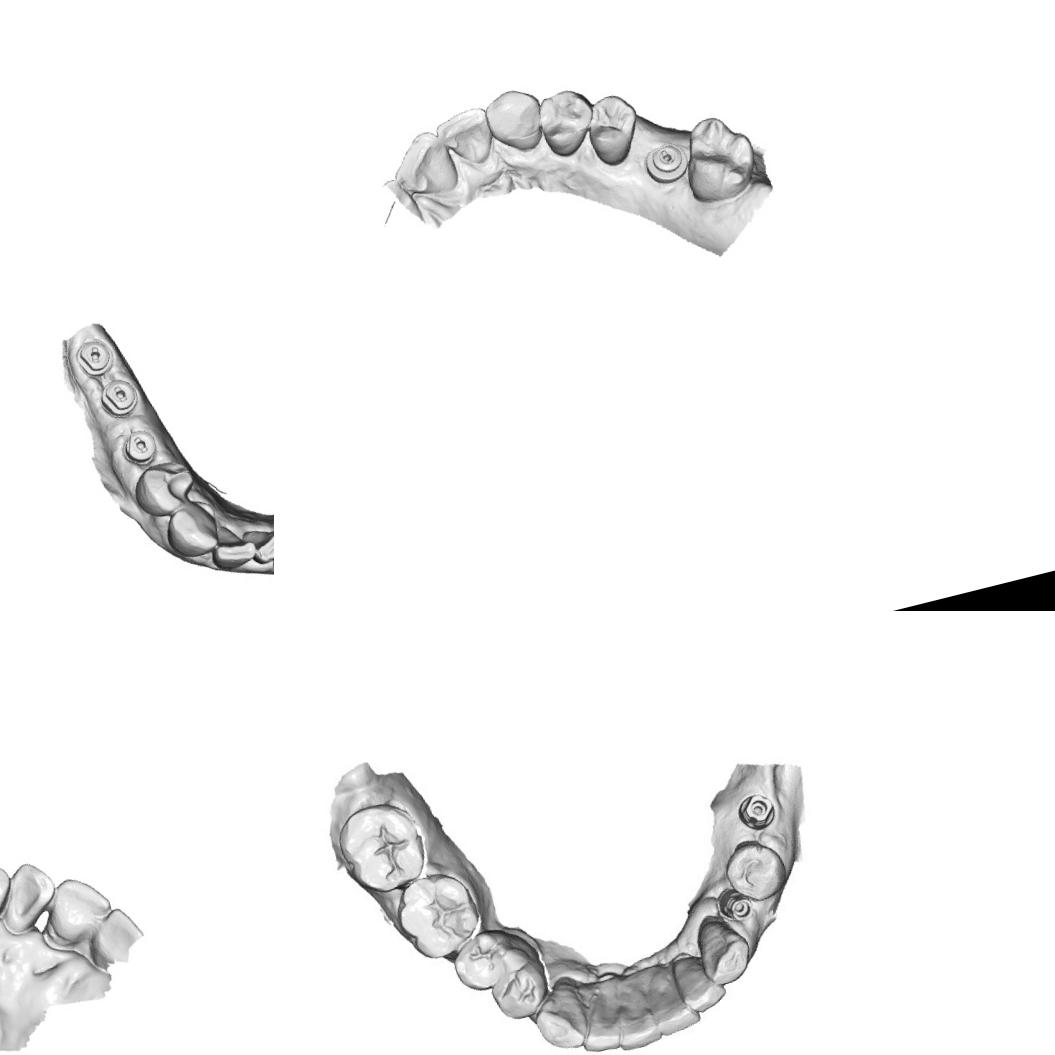canine: (526, 970, 600, 1054), (478, 80, 553, 160), (690, 909, 760, 990), (157, 493, 224, 564), (0, 855, 20, 936)
implant: (732, 785, 787, 842), (710, 878, 760, 932)
implant_minus: (638, 136, 693, 186), (94, 372, 145, 422), (113, 424, 162, 472), (70, 334, 118, 382)
incisor: (382, 123, 463, 205), (38, 867, 120, 945), (563, 968, 631, 1055), (640, 957, 700, 1043), (0, 856, 62, 937), (430, 102, 500, 173), (670, 942, 732, 1020), (79, 902, 150, 970), (608, 974, 665, 1052), (202, 518, 262, 578), (240, 517, 274, 567)
molar: (388, 864, 492, 966), (673, 105, 766, 210), (336, 797, 433, 894)
premolar: (578, 86, 648, 170), (531, 82, 602, 162), (445, 924, 518, 999), (486, 954, 558, 1028), (126, 454, 204, 522), (721, 835, 786, 901)
